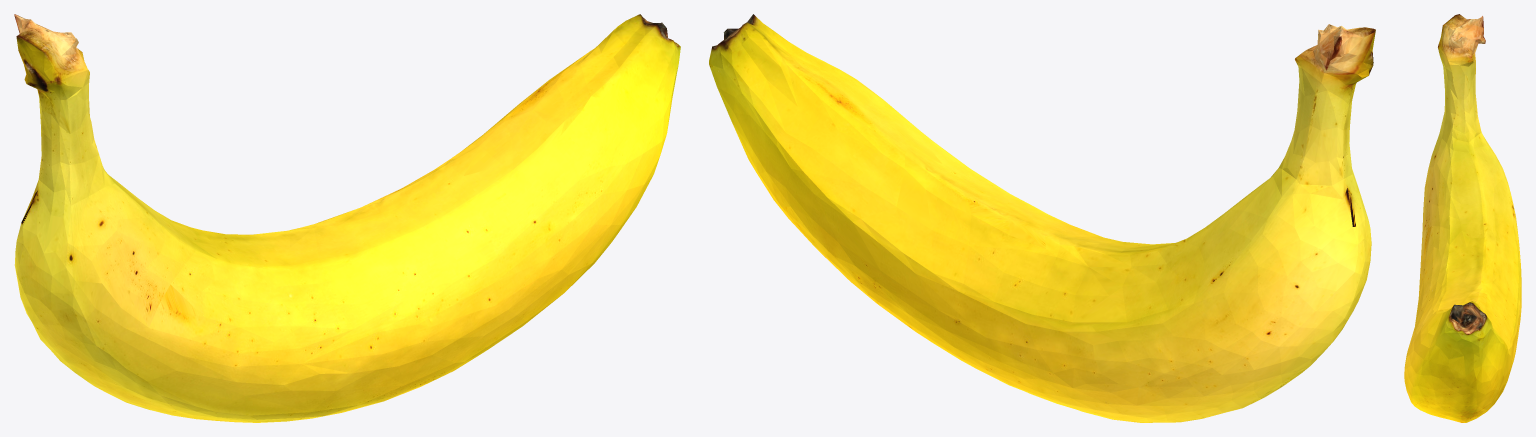
File: banana-v1.glb
3 views of the same model, side by side, from view 1: azimuth 30°, elevation 25°; view 2: azimuth 150°, elevation 25°; view 3: azimuth 270°, elevation 25° (orthographic). The views are drawn at different scales.
Parts seen in each view (by area): view 1: banana; view 2: banana; view 3: banana.
Part boxes in pixels (box(x1,y1,x2,y2)): banana: box(14, 14, 680, 422); banana: box(709, 14, 1375, 422); banana: box(1404, 14, 1521, 422).
Size of the model in its own units: 6.79 by 4.44 by 1.61.
1 material, 1 textured.
